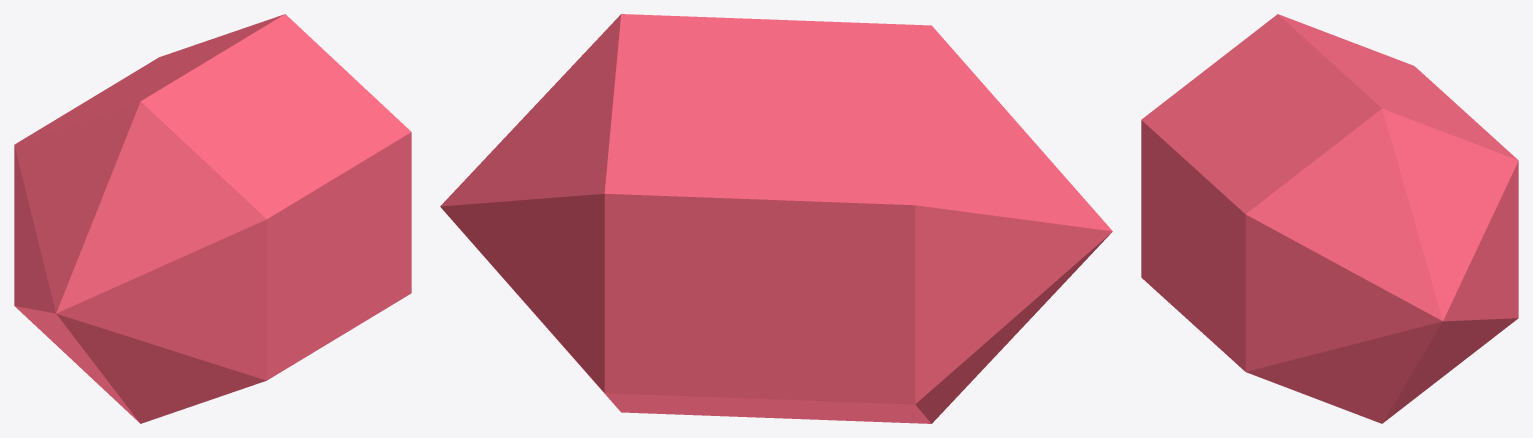
Rendered from gem_leech.glb.
The picture shows the model from 3 angles, left to right: view 1: azimuth 30°, elevation 25°; view 2: azimuth 150°, elevation 25°; view 3: azimuth 270°, elevation 25°; orthographic projection. The views are drawn at different scales.
Visible parts, largest first — view 1: model; view 2: model; view 3: model.
Part boxes in pixels (<box>): model: <box>14,14,411,423</box>; model: <box>440,14,1112,423</box>; model: <box>1141,14,1518,423</box>.
Size of the model in its own units: 0.1532 by 0.11 by 0.1193.
